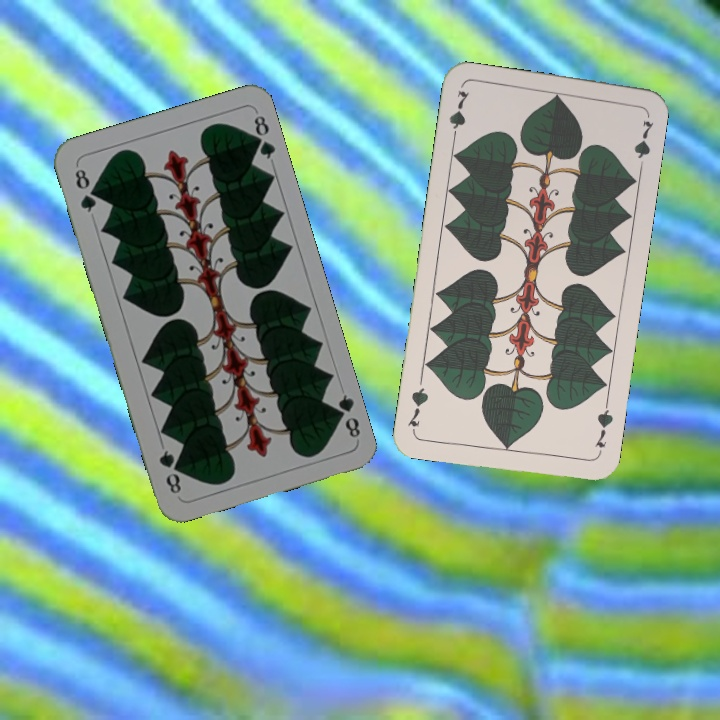G7: (445, 87, 472, 145), (591, 399, 616, 450)
G8: (328, 390, 363, 441), (70, 164, 99, 215)
